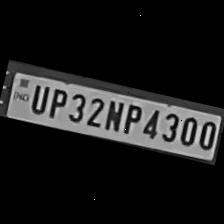0: (174, 111, 200, 146), (194, 116, 219, 150)
2: (82, 92, 108, 128)
3: (63, 88, 88, 124), (158, 107, 182, 144)
4: (137, 102, 165, 140)
N: (101, 95, 126, 132)
P: (44, 83, 70, 120), (118, 98, 144, 135)
U: (26, 79, 52, 115)
